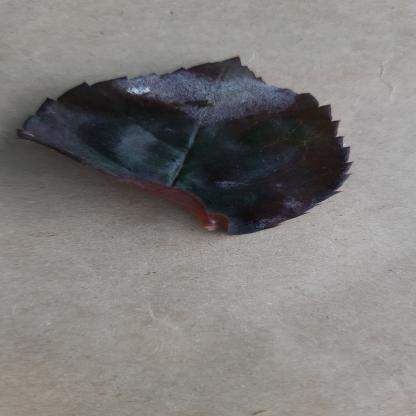powdery-mildew: (9, 54, 356, 234)
